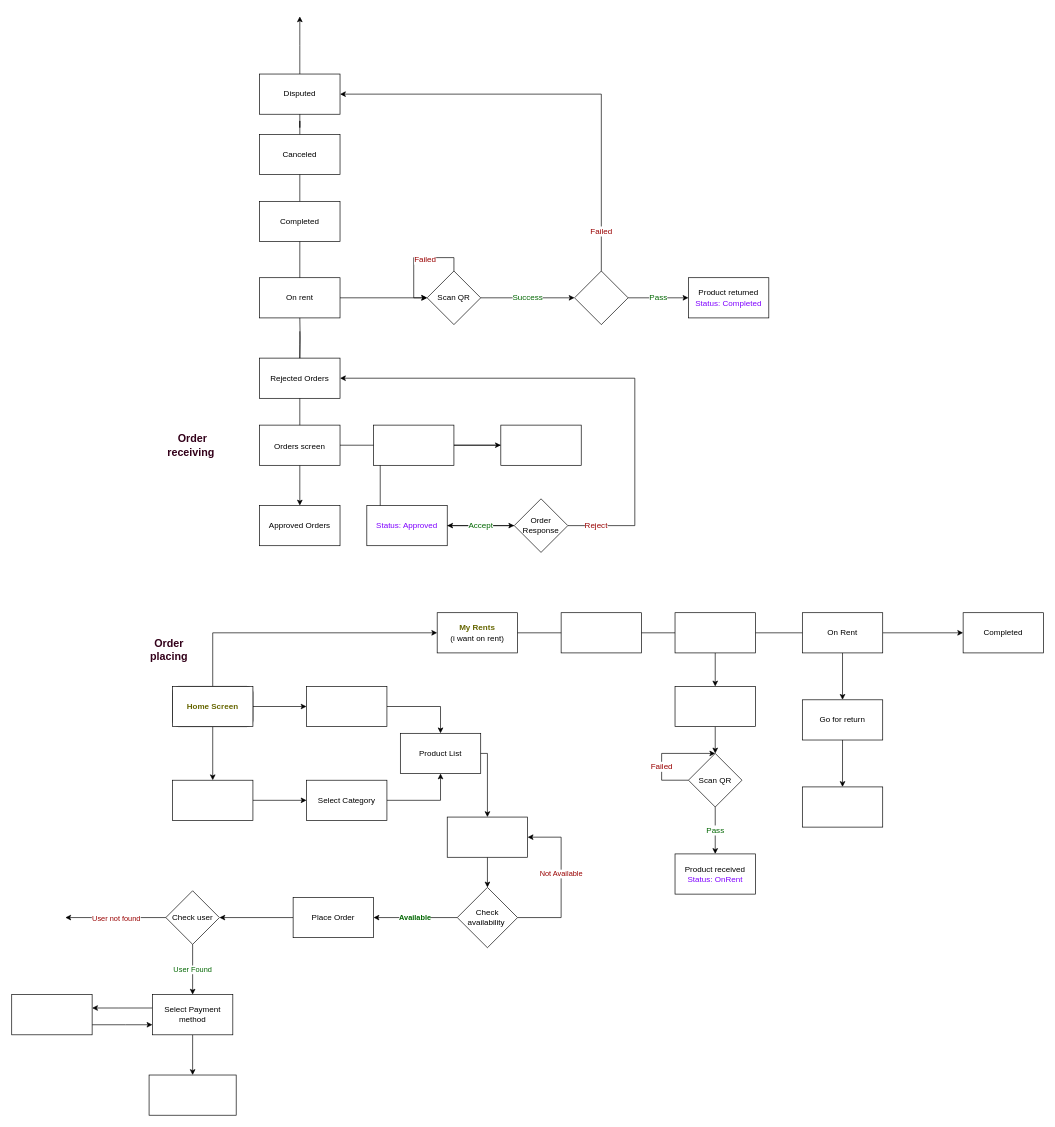
The diagram is 1055 pixels wide and 1127 high, and some of its shapes have lost their labels. The shapes that lost their labels are listed below. From the top down, each one's centre as x and y in pixels, then its label:
At (601,297): "check product condition".
At (413,444): "Pending Orders".
At (540,444): "Order Details".
At (601,632): "Pending Requests".
At (714,632): "Approved Requests".
At (346,706): "Search items".
At (714,706): "Go for pickup".
At (212,800): "Go with Categories".
At (842,806): "Show QR for scan by owner".
At (487,836): "Select a product".
At (51,1014): "Add Payment method".
At (192,1094): "Order Placed Status: Pending".
